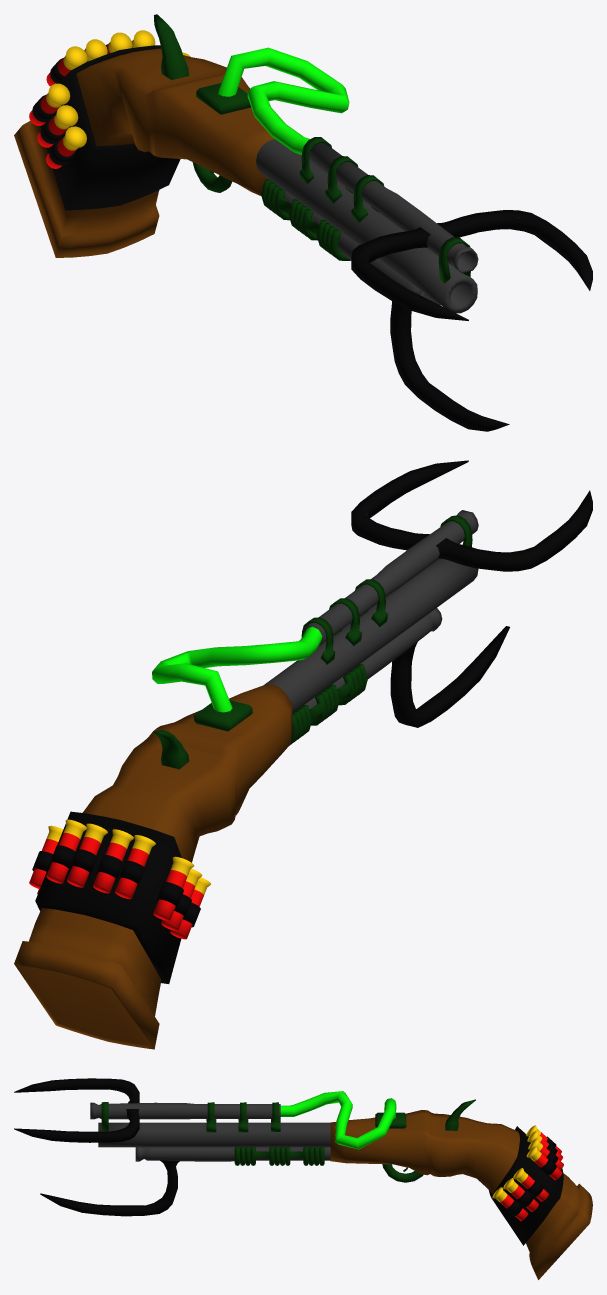
Rendered from ShotGun.fbx.
3 views of the same model, one above another, from view 1: azimuth 30°, elevation 25°; view 2: azimuth 150°, elevation 25°; view 3: azimuth 270°, elevation 25° (orthographic). The views are drawn at different scales.
Visible parts, largest first — view 1: coronha, baionetas, baleiroescopeta, canoprincipal, mangueira, canosecundario, BalasEscopeta, encaixes, guardamao, cao, fontealimentacao, carregadortubular (+1 smaller); view 2: coronha, baleiroescopeta, baionetas, canoprincipal, BalasEscopeta, mangueira, canosecundario, guardamao, encaixes, carregadortubular, fontealimentacao, cao; view 3: coronha, canoprincipal, baionetas, baleiroescopeta, canosecundario, mangueira, BalasEscopeta, carregadortubular, guardamao, encaixes, gatilhoEscopeta, cao (+1 smaller).
Boxes of the visible parts, bbox=[...] form: coronha: bbox=[14, 48, 274, 257]; baionetas: bbox=[351, 210, 592, 431]; baleiroescopeta: bbox=[32, 44, 180, 210]; canoprincipal: bbox=[256, 139, 477, 313]; mangueira: bbox=[218, 47, 349, 154]; canosecundario: bbox=[309, 142, 478, 273]; BalasEscopeta: bbox=[29, 30, 190, 168]; encaixes: bbox=[299, 137, 470, 283]; guardamao: bbox=[261, 179, 350, 260]; cao: bbox=[154, 14, 189, 80]; fontealimentacao: bbox=[196, 83, 250, 114]; carregadortubular: bbox=[262, 178, 440, 305]; coronha: bbox=[14, 684, 292, 1049]; baleiroescopeta: bbox=[32, 811, 200, 983]; baionetas: bbox=[351, 460, 592, 727]; canoprincipal: bbox=[264, 558, 478, 713]; BalasEscopeta: bbox=[29, 819, 210, 939]; mangueira: bbox=[152, 626, 322, 712]; canosecundario: bbox=[303, 510, 478, 645]; guardamao: bbox=[289, 664, 367, 745]; encaixes: bbox=[301, 515, 472, 664]; carregadortubular: bbox=[304, 608, 442, 709]; fontealimentacao: bbox=[194, 700, 252, 731]; cao: bbox=[154, 730, 189, 769]; coronha: bbox=[330, 1110, 592, 1279]; canoprincipal: bbox=[98, 1122, 330, 1147]; baionetas: bbox=[14, 1078, 180, 1216]; baleiroescopeta: bbox=[489, 1126, 563, 1245]; canosecundario: bbox=[90, 1102, 280, 1119]; mangueira: bbox=[280, 1091, 396, 1149]; BalasEscopeta: bbox=[492, 1125, 563, 1221]; carregadortubular: bbox=[135, 1147, 330, 1161]; guardamao: bbox=[234, 1147, 324, 1165]; encaixes: bbox=[101, 1102, 280, 1132]; gatilhoEscopeta: bbox=[382, 1164, 423, 1182]; cao: bbox=[445, 1099, 475, 1130].
Size of the model in its own units: 45.3 by 65.17 by 195.
